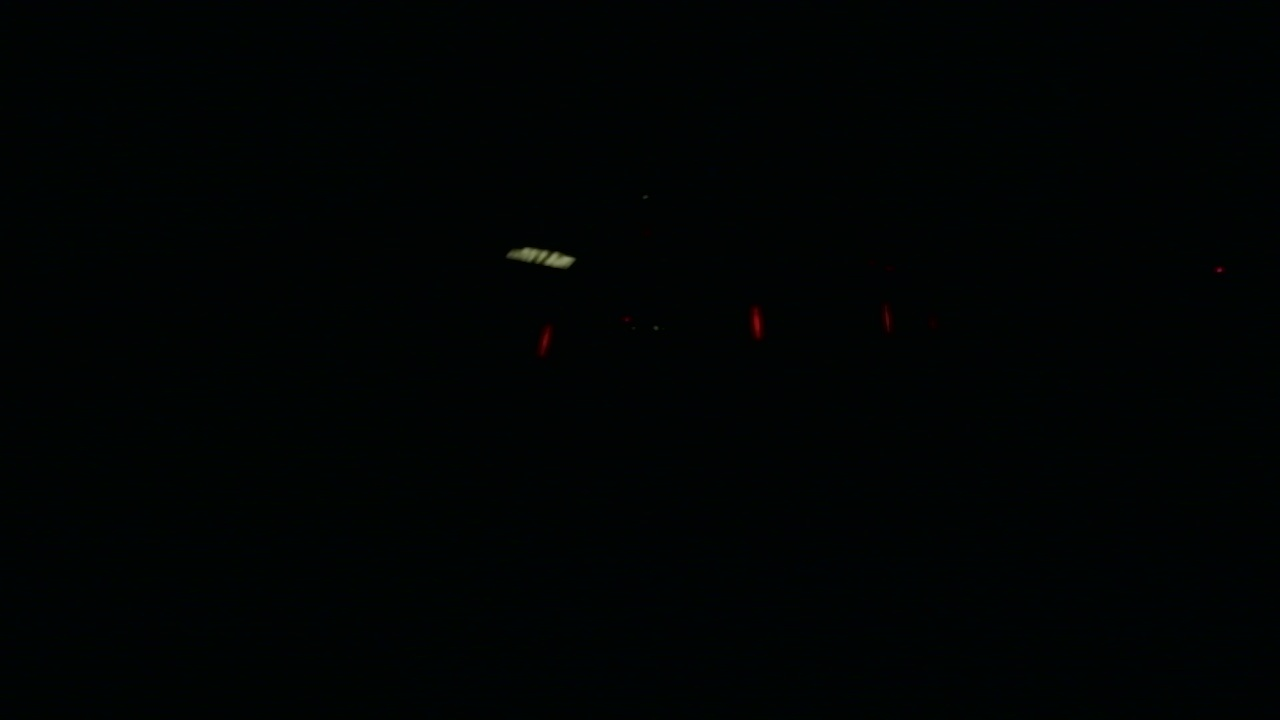lamp: (529, 308, 555, 358), (746, 310, 768, 336), (889, 301, 898, 336)
notpair2: (530, 309, 770, 356)
pair2: (746, 301, 900, 339)
